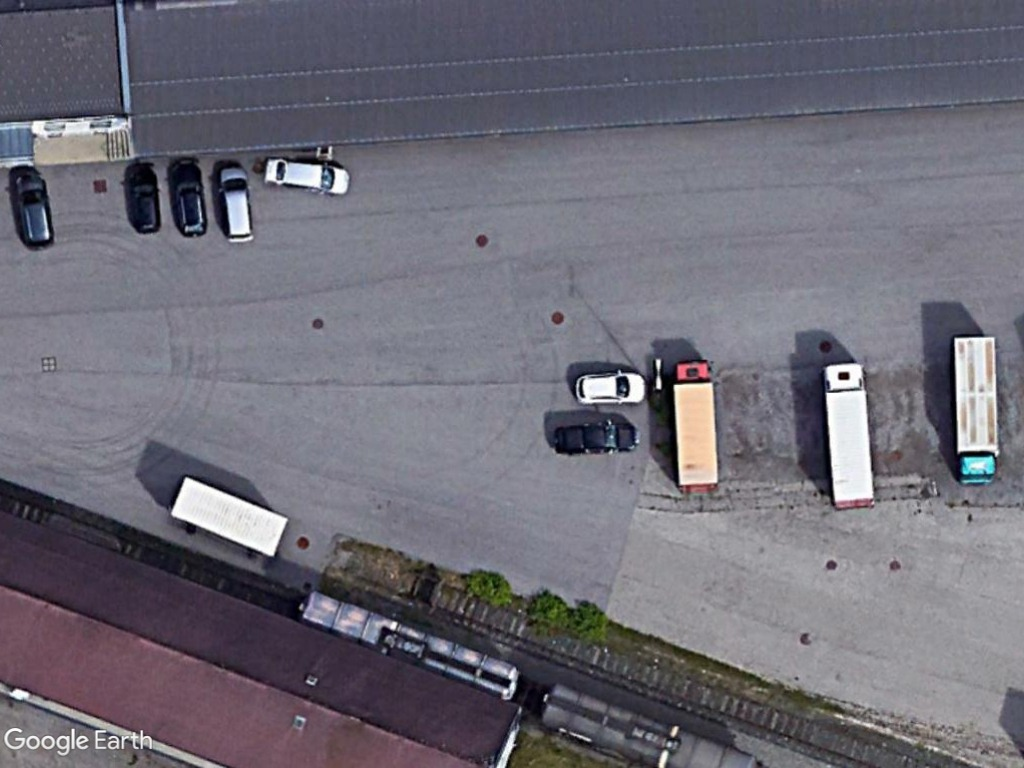car: (260, 153, 356, 202), (11, 170, 57, 253), (550, 419, 644, 459), (569, 368, 650, 409), (213, 160, 253, 243), (168, 154, 207, 237), (126, 158, 165, 237)
truck: (818, 360, 880, 512), (947, 327, 1003, 485), (670, 355, 723, 495)
